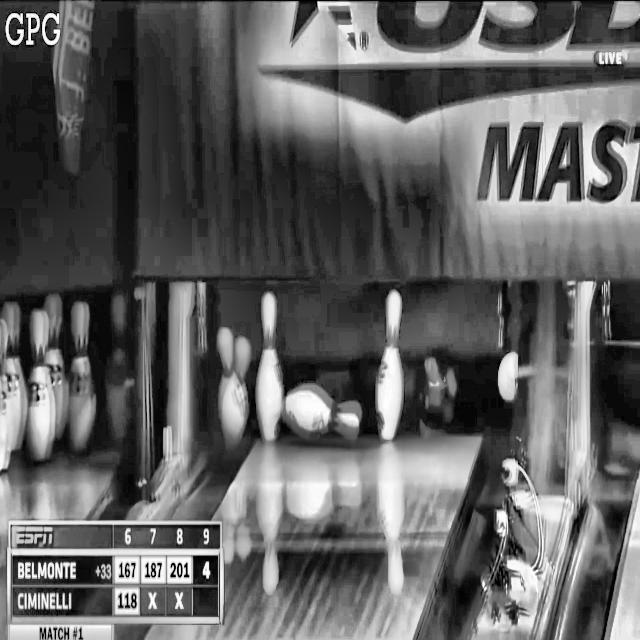bowling-pins: (256, 292, 283, 441)
